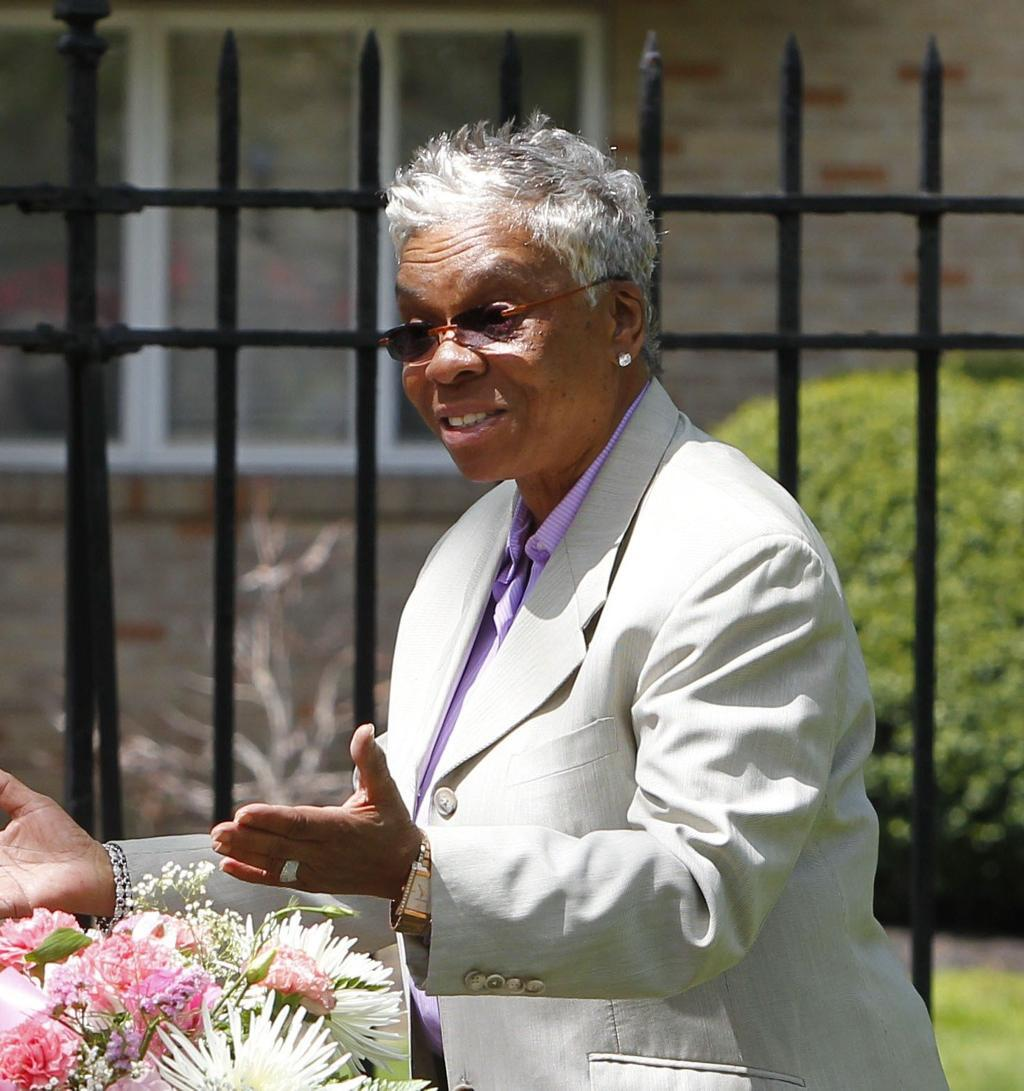face: (399, 231, 586, 461)
